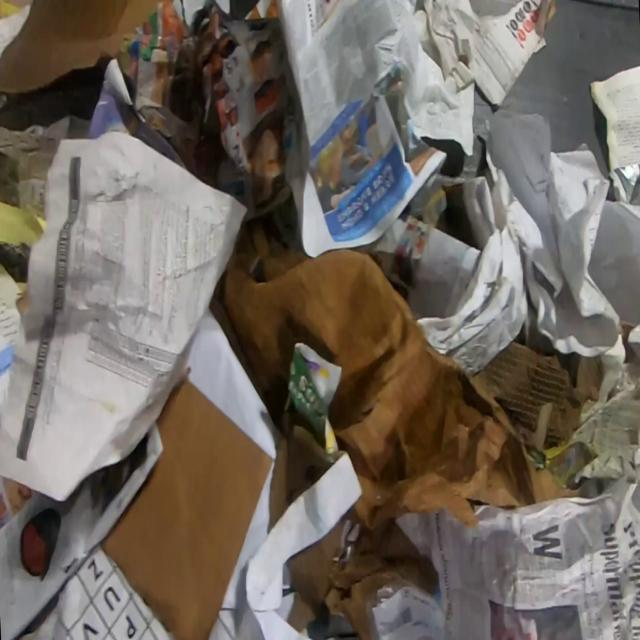cardboard: (209, 223, 603, 535), (100, 377, 272, 639), (0, 0, 172, 95), (472, 0, 558, 108)
